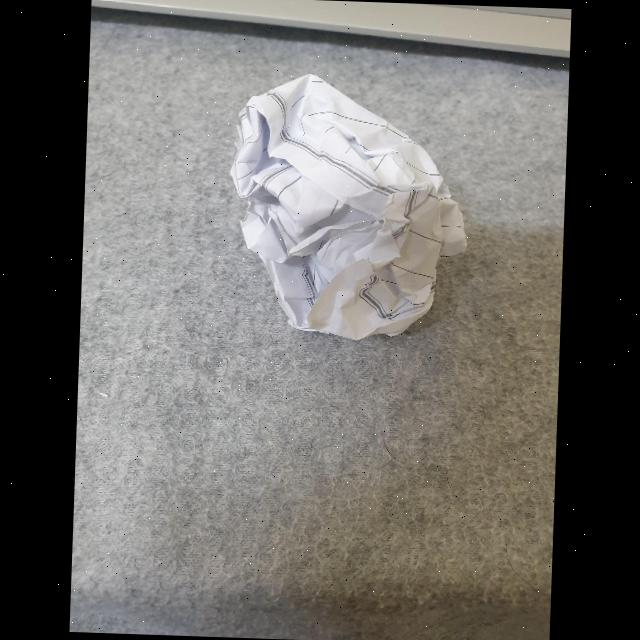trash: (212, 60, 484, 368)
